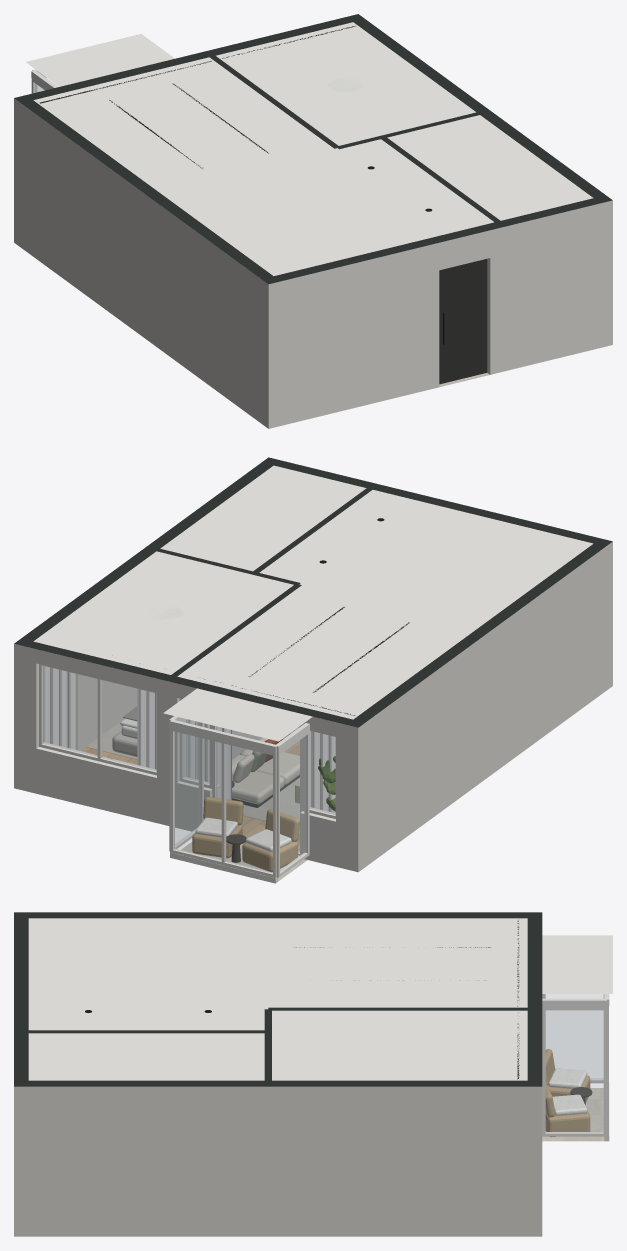
3 views of the same model, one above another, from view 1: azimuth 30°, elevation 25°; view 2: azimuth 150°, elevation 25°; view 3: azimuth 270°, elevation 25° (orthographic). The views are drawn at different scales.
Visible parts, largest first — view 1: Interior, Ceiling, Caps; view 2: Interior, Ceiling, Glass, Caps, Curtains; view 3: Interior, Ceiling, Caps, Glass.
Boxes of the visible parts, left/top/right/bottom form: Interior: left=14, top=69, right=612, bottom=428; Ceiling: left=26, top=22, right=593, bottom=275; Caps: left=14, top=14, right=612, bottom=284; Interior: left=14, top=541, right=612, bottom=883; Ceiling: left=33, top=465, right=593, bottom=741; Glass: left=43, top=666, right=335, bottom=872; Caps: left=14, top=457, right=612, bottom=727; Curtains: left=43, top=666, right=335, bottom=813; Interior: left=14, top=994, right=609, bottom=1236; Ceiling: left=28, top=918, right=612, bottom=1080; Caps: left=14, top=912, right=542, bottom=1086; Glass: left=546, top=994, right=603, bottom=1132.
Bounding box in the file's own units: 6.78 × 2.73 × 9.84.
45 materials, 16 textured.
